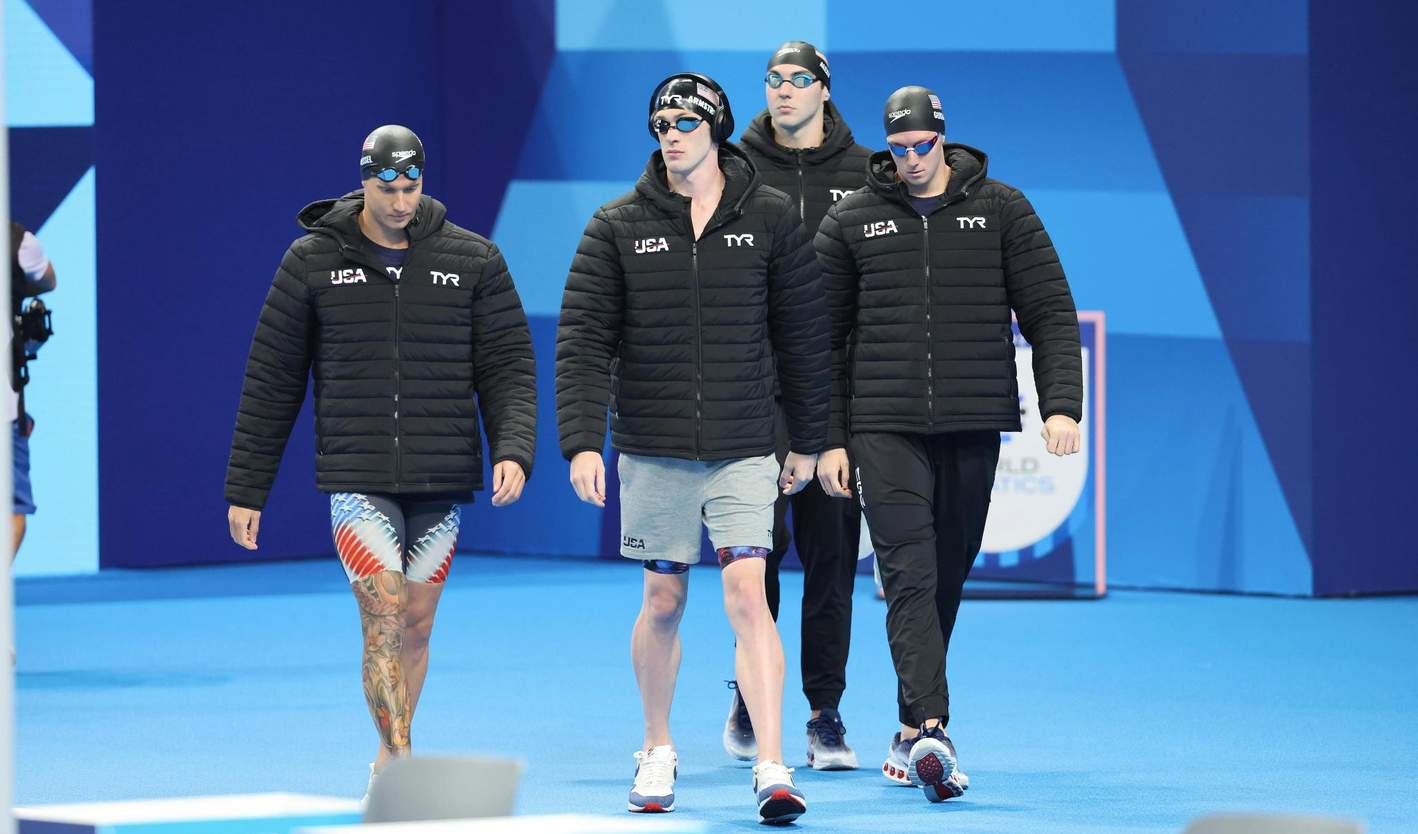Shorts: (618, 448, 781, 568), (326, 486, 464, 588)
coat: (225, 187, 541, 508), (553, 140, 829, 462), (810, 140, 1086, 455), (733, 100, 883, 454)
trousers: (848, 427, 1004, 730), (746, 457, 864, 710)
